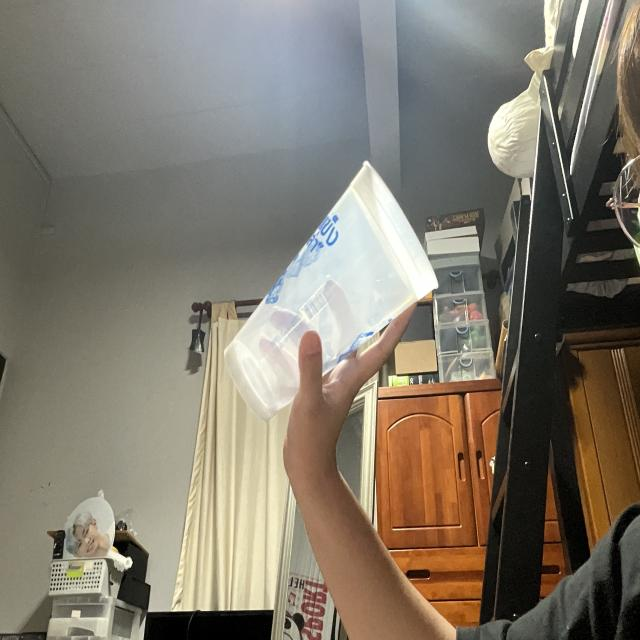cup: (224, 160, 440, 424)
